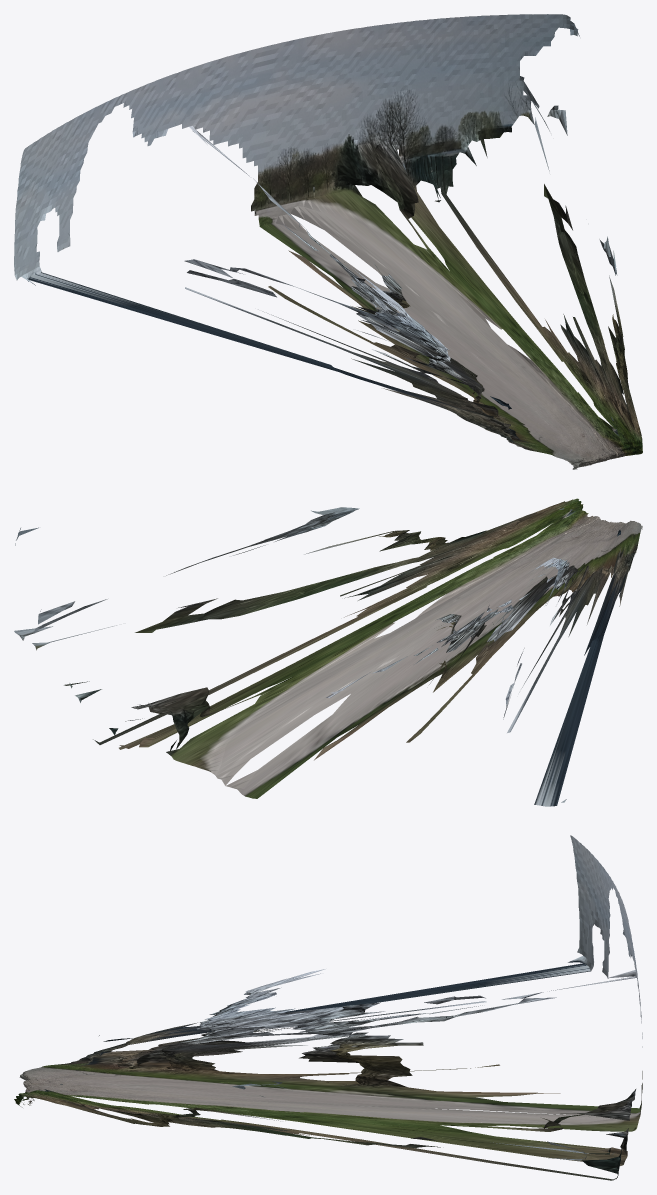
The picture shows the model from 3 angles, top to bottom: view 1: azimuth 30°, elevation 25°; view 2: azimuth 150°, elevation 25°; view 3: azimuth 270°, elevation 25°; orthographic projection. The views are drawn at different scales.
Parts seen in each view (by area): view 1: defaultobject; view 2: defaultobject; view 3: defaultobject.
Boxes of the visible parts, x1,y1,x2,y2 form: defaultobject: (14, 14, 642, 469); defaultobject: (14, 498, 642, 806); defaultobject: (14, 835, 642, 1180).
Size of the model in its own units: 40.78 by 12.86 by 44.7.
1 material, 1 textured.
